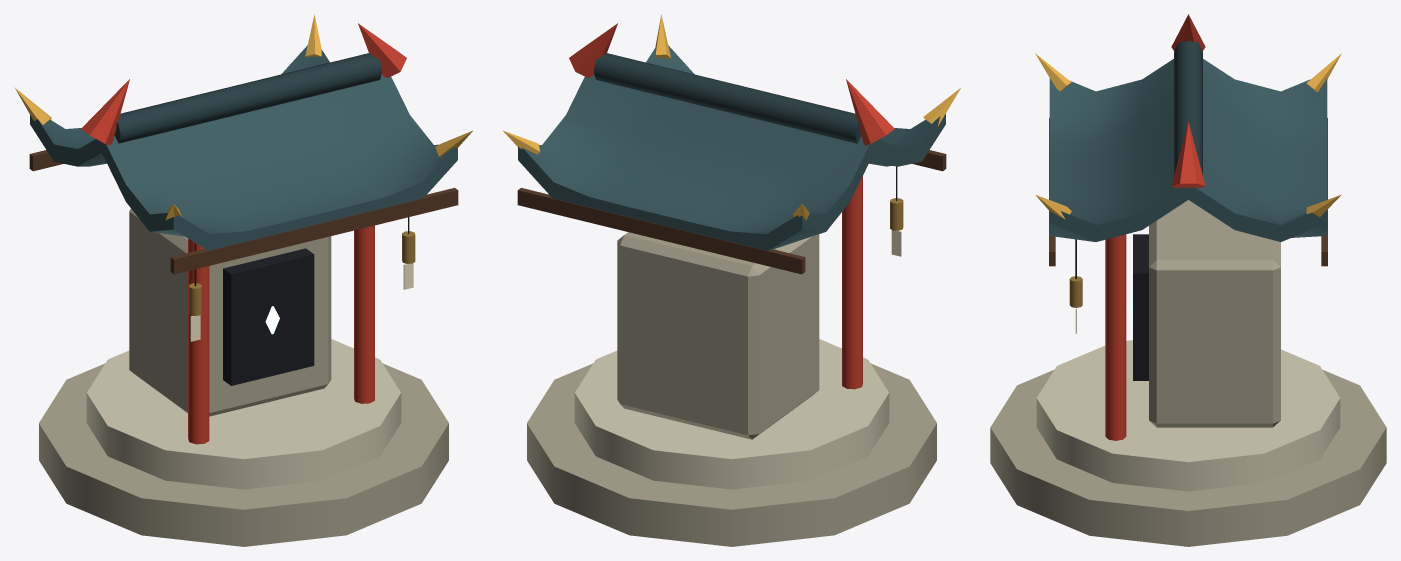
The model's file is shrine_wind.glb.
The picture shows the model from 3 angles, left to right: view 1: azimuth 30°, elevation 25°; view 2: azimuth 150°, elevation 25°; view 3: azimuth 270°, elevation 25°; orthographic projection. The views are drawn at different scales.
Visible parts, largest first — view 1: Shrine; view 2: Shrine; view 3: Shrine.
Boxes of the visible parts, bbox=[...] form: Shrine: bbox=[15, 14, 472, 546]; Shrine: bbox=[503, 14, 960, 546]; Shrine: bbox=[990, 14, 1386, 546].
Size of what is drawn, in the model's own units: 3 by 3.3 by 3.
